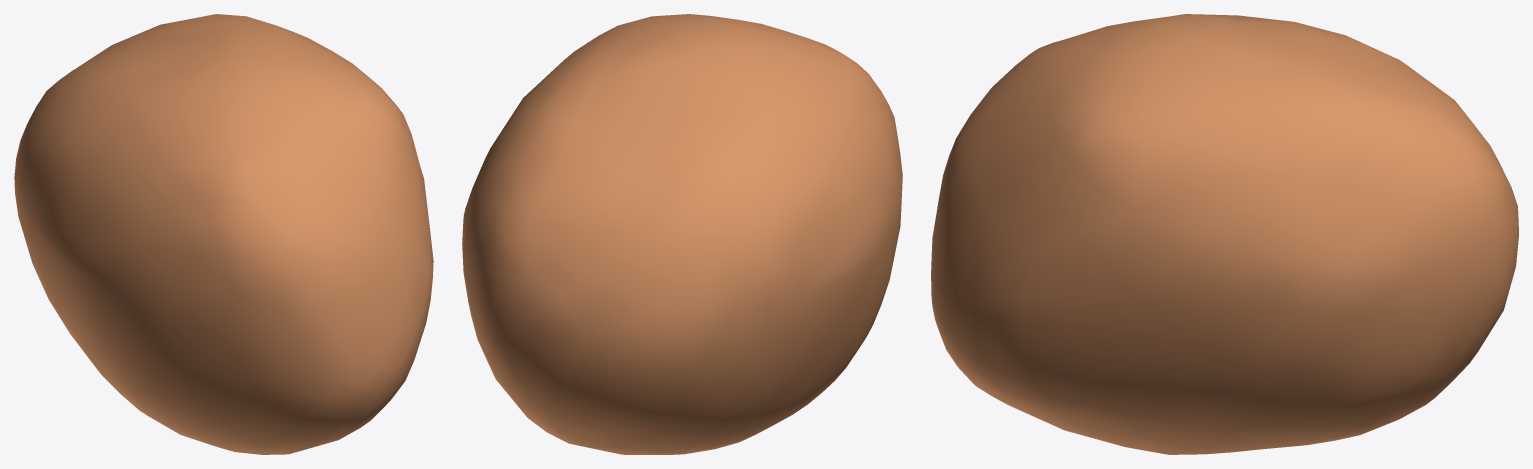
3 renders of one model, left to right at view 1: azimuth 30°, elevation 25°; view 2: azimuth 150°, elevation 25°; view 3: azimuth 270°, elevation 25°, orthographic. The views are drawn at different scales.
Visible parts, largest first — view 1: 右侧睾丸; view 2: 右侧睾丸; view 3: 右侧睾丸.
Boxes of the visible parts, x1,y1,x2,y2 form: 右侧睾丸: [14, 14, 433, 454]; 右侧睾丸: [462, 14, 902, 454]; 右侧睾丸: [931, 14, 1518, 454].
Size of the model in its own units: 0.0311 by 0.0335 by 0.0434.
